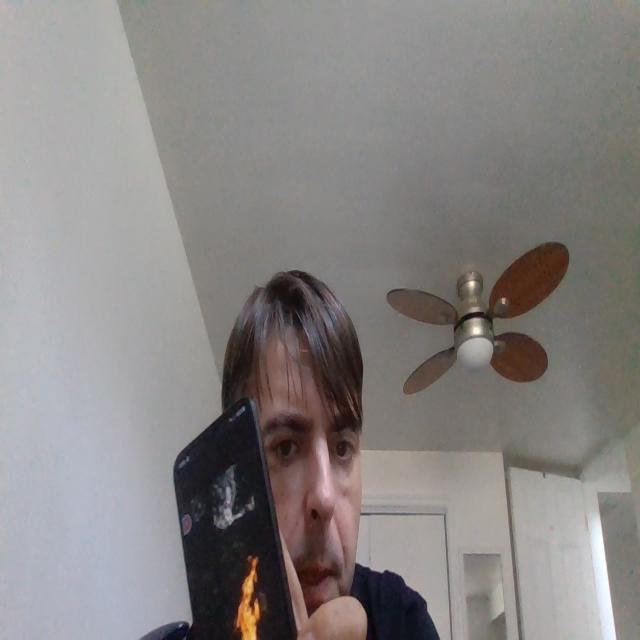Fire: (226, 539, 267, 640)
